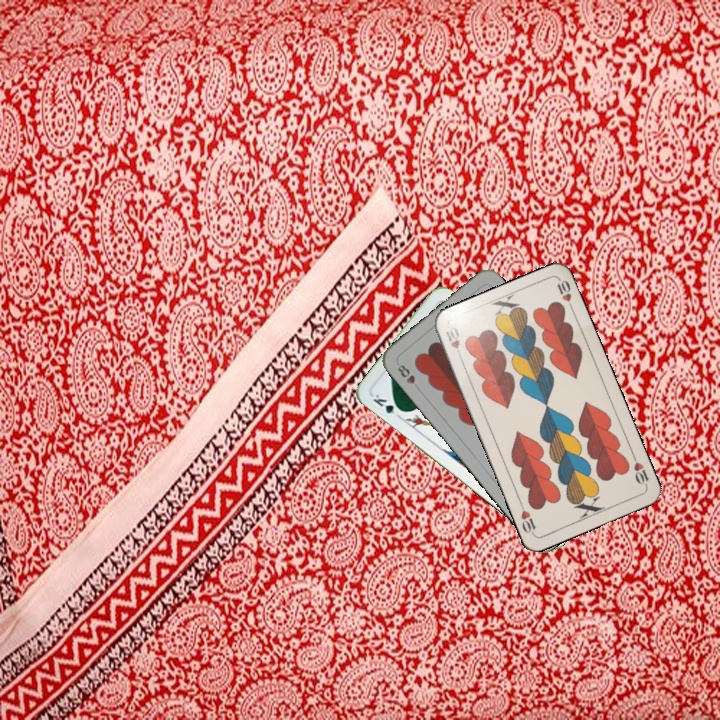GK: (369, 390, 406, 421)
H10: (441, 323, 465, 362), (628, 450, 652, 489)
H8: (393, 361, 423, 393)
